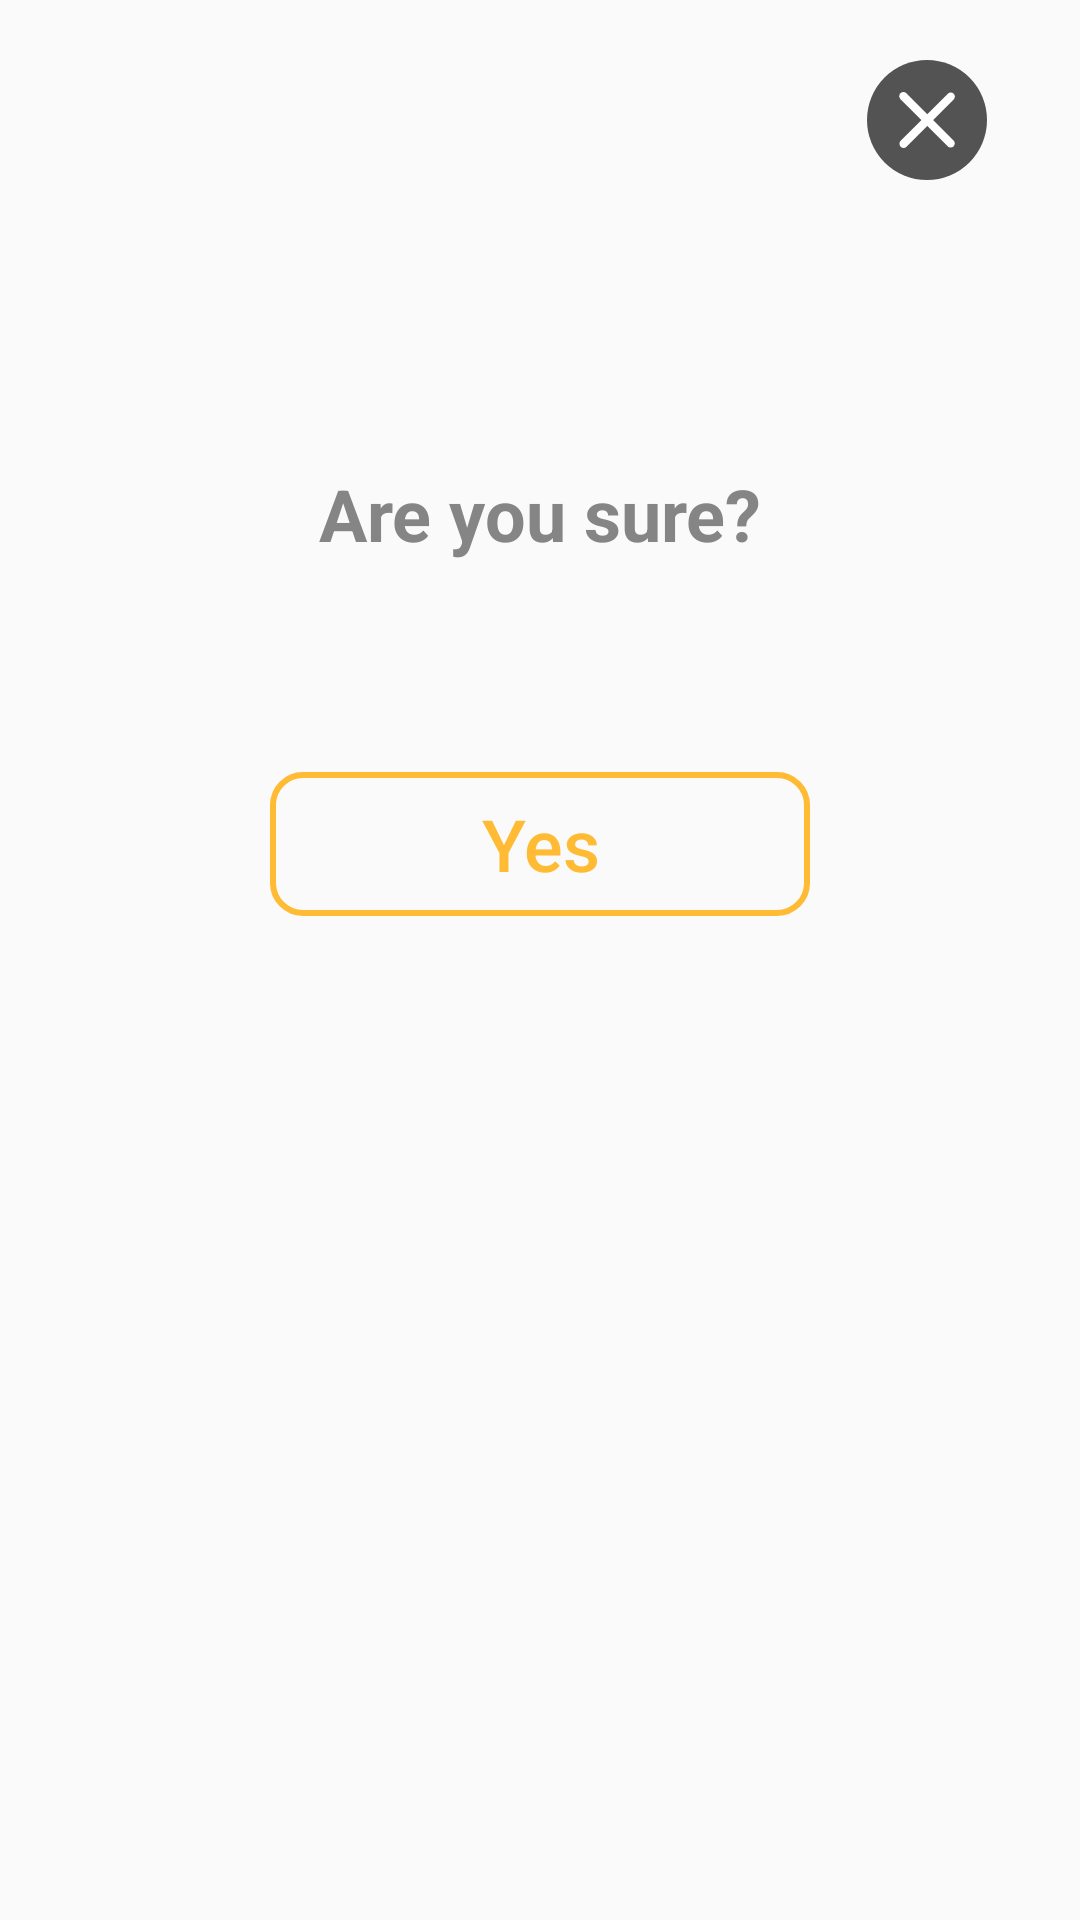

Icon click points for this 1080×1920 phone screenshot, format point (x, y):
exit popup: point (927, 120)
